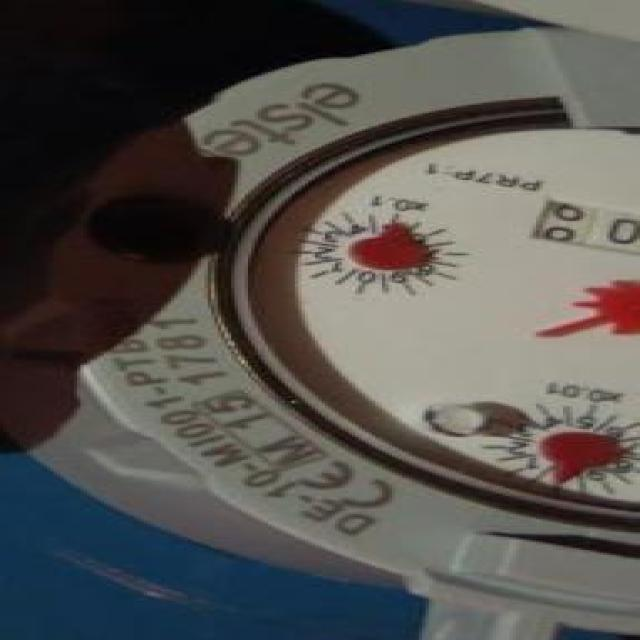gaz_meter: (236, 95, 640, 518)
indication: (494, 183, 637, 258)
